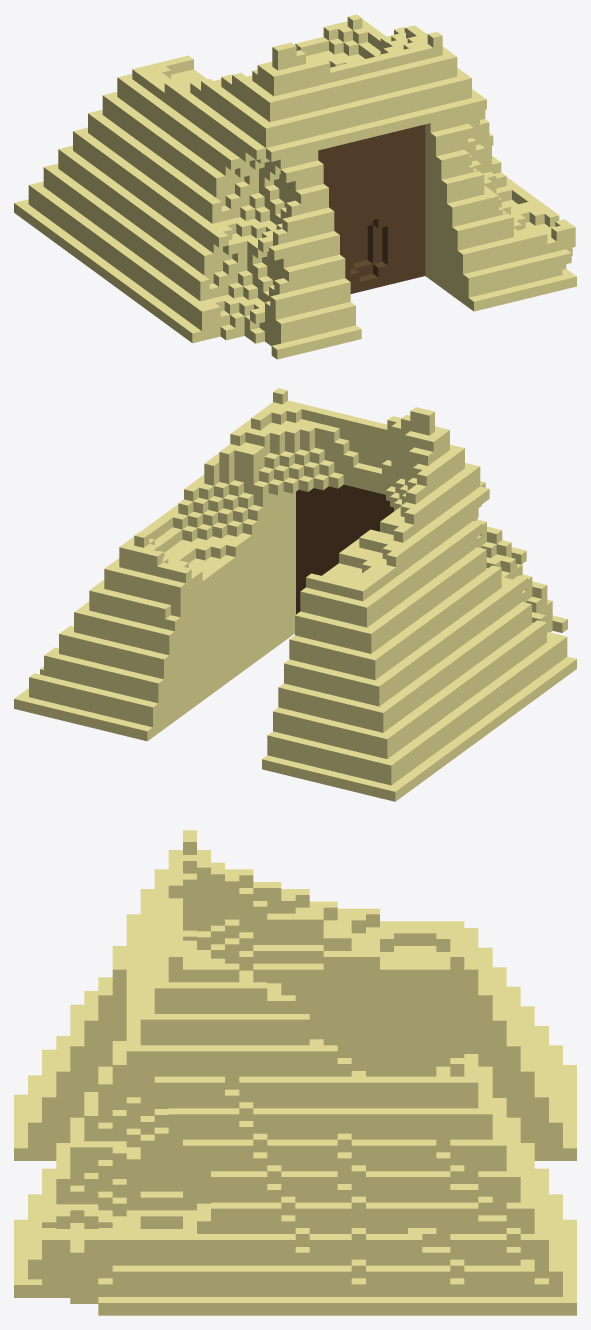
The model's file is Piramid_ruins.obj.
3 views of the same model, one above another, from view 1: azimuth 30°, elevation 25°; view 2: azimuth 150°, elevation 25°; view 3: azimuth 270°, elevation 25° (orthographic). The views are drawn at different scales.
Size of the model in its own units: 4 by 2.5 by 4.
